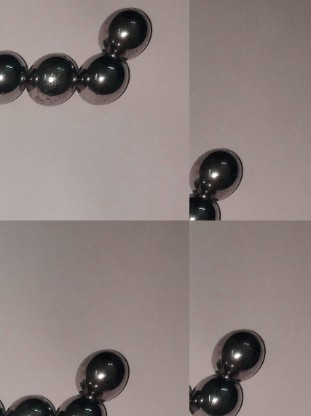ironball: (204, 317, 275, 381), (91, 0, 161, 56), (189, 146, 250, 196), (77, 339, 130, 395), (25, 53, 77, 106), (195, 368, 253, 415), (75, 55, 128, 104), (0, 48, 28, 110), (7, 387, 57, 412), (62, 392, 118, 414), (185, 198, 224, 220)
